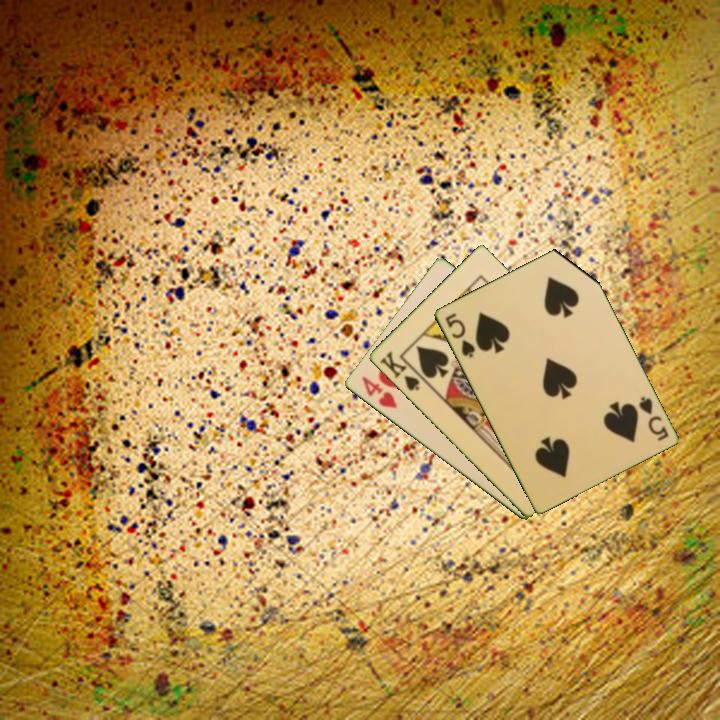4h: (358, 373, 400, 411)
5s: (441, 309, 478, 361), (635, 392, 671, 444)
Ks: (376, 347, 427, 394)
